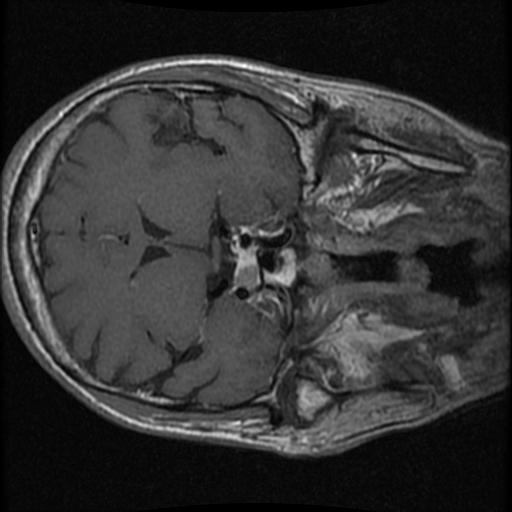pituitary tumour: (232, 251, 258, 292)
